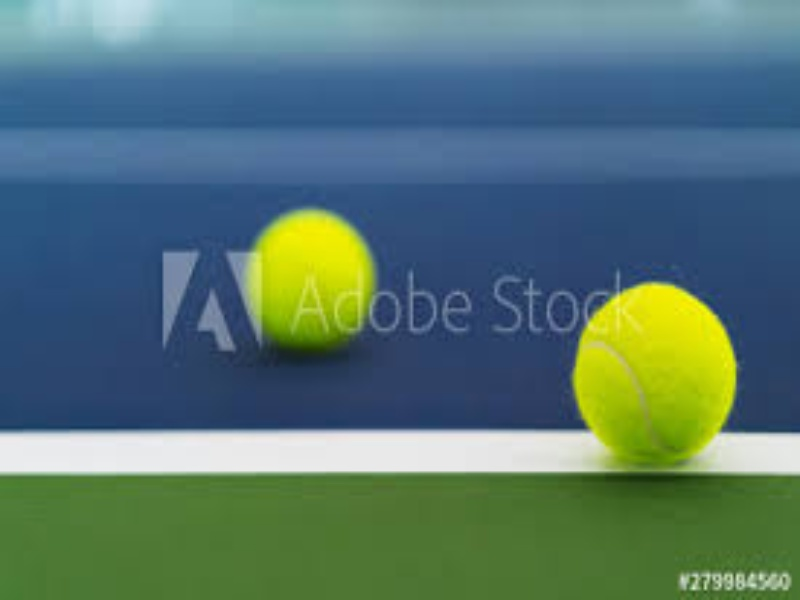tennis ball: (563, 274, 751, 478), (238, 196, 425, 366)
